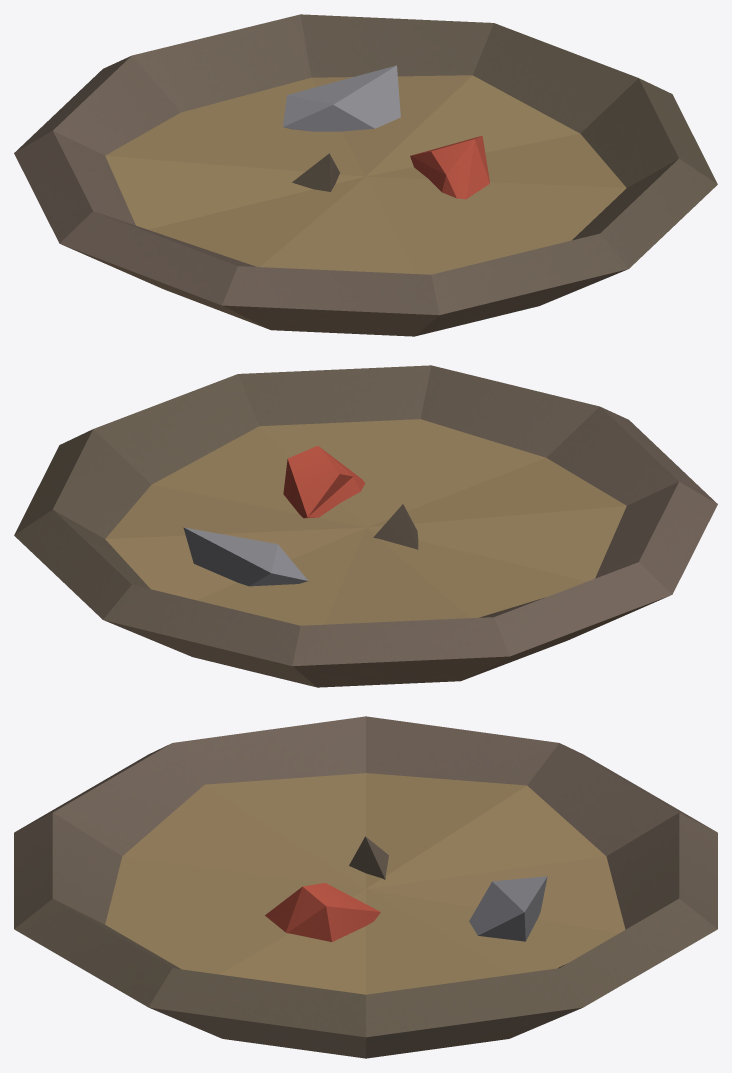
Rendered from Plate_2.fbx.
The picture shows the model from 3 angles, top to bottom: view 1: azimuth 30°, elevation 25°; view 2: azimuth 150°, elevation 25°; view 3: azimuth 270°, elevation 25°; orthographic projection. The views are drawn at different scales.
Visible parts, largest first — view 1: Group55996; view 2: Group55996; view 3: Group55996.
Boxes of the visible parts, box(x1,y1,x2,y2) form: Group55996: box(14, 14, 717, 336); Group55996: box(14, 365, 717, 687); Group55996: box(14, 716, 717, 1058).
Bounding box in the file's own units: 24.31 × 3.95 × 23.12.
